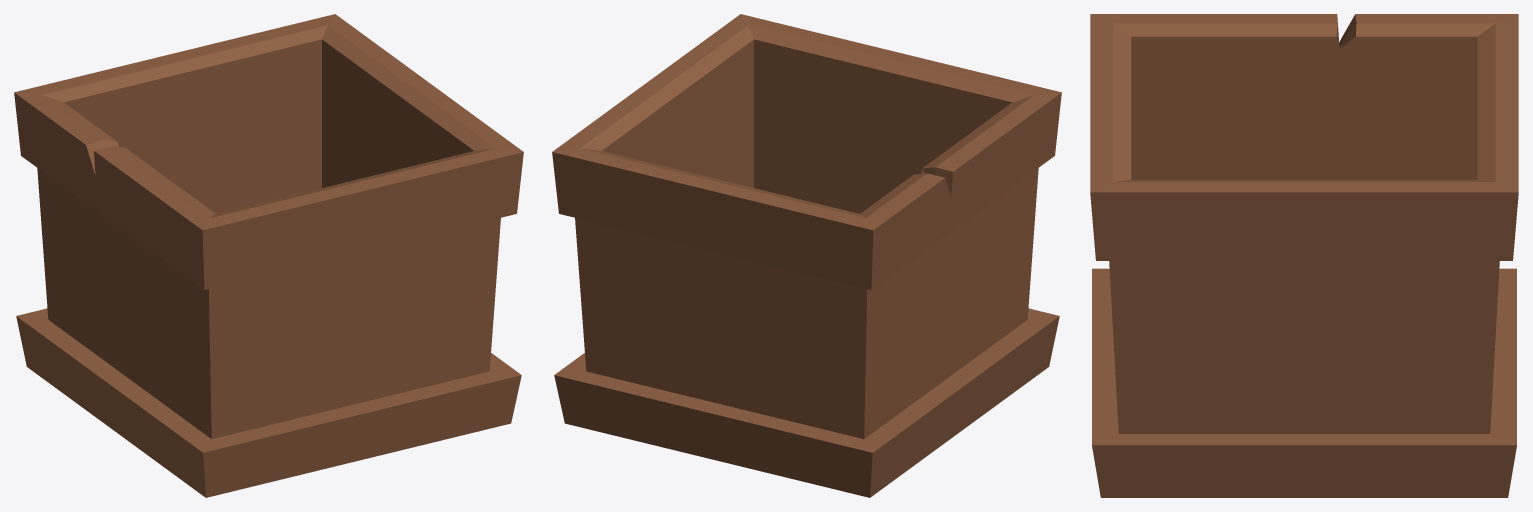
Rendered from crate.fbx.
The picture shows the model from 3 angles, left to right: view 1: azimuth 30°, elevation 25°; view 2: azimuth 150°, elevation 25°; view 3: azimuth 270°, elevation 25°; orthographic projection. The views are drawn at different scales.
Parts seen in each view (by area): view 1: crate; view 2: crate; view 3: crate.
Boxes of the visible parts, x1,y1,x2,y2 form: crate: (14,14,523,497); crate: (552,14,1061,497); crate: (1090,14,1518,497).
Bounding box in the file's own units: 59.22 × 48.16 × 60.21.
Materials: 1 (1 with a texture image).
